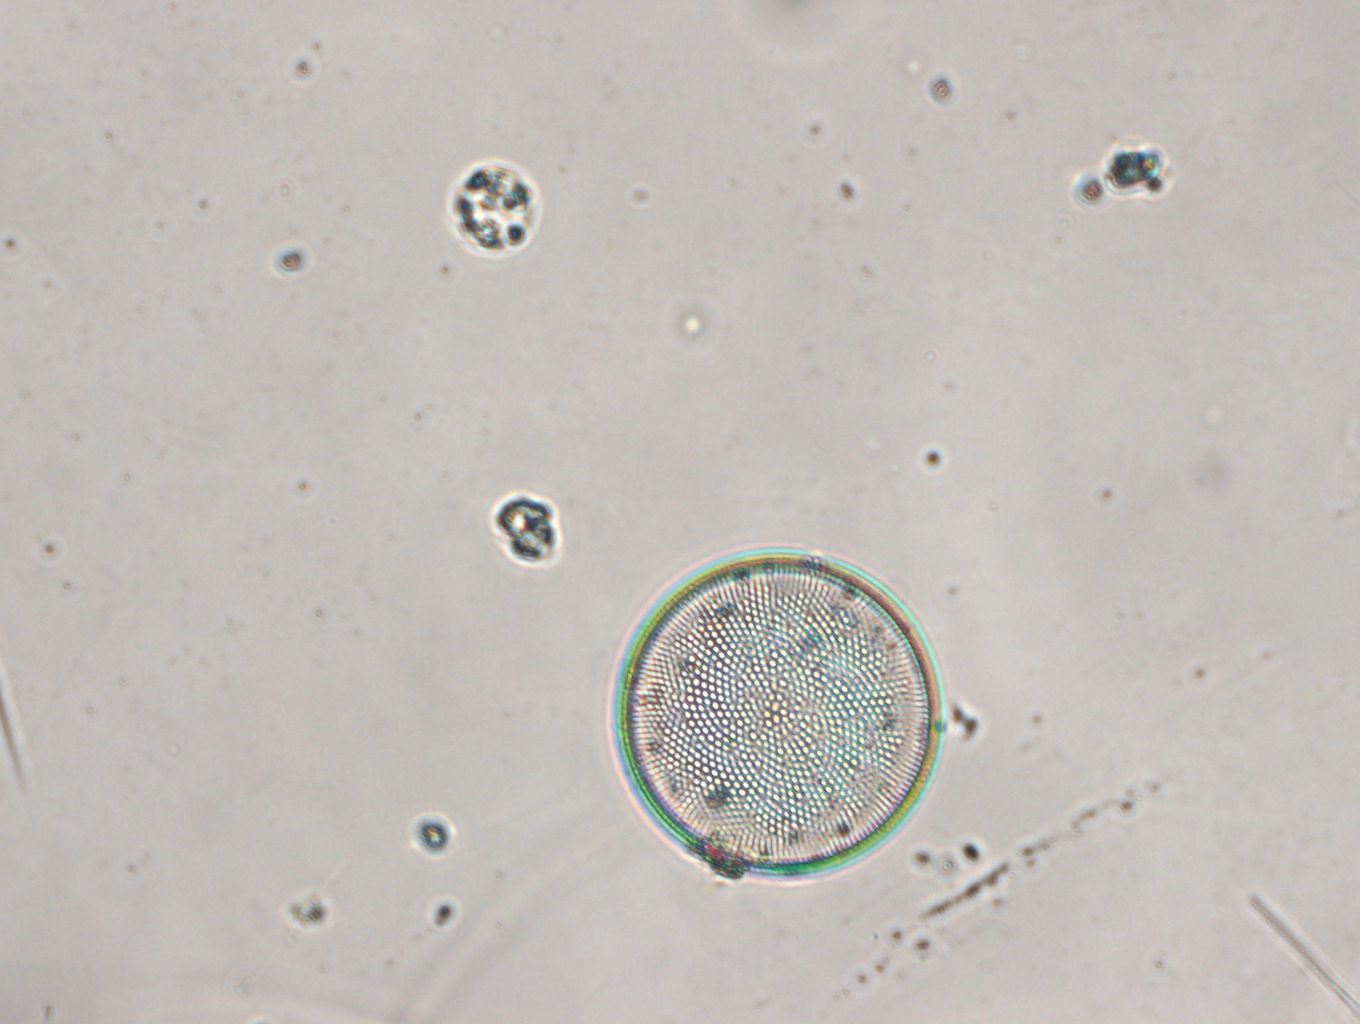coscinodiscus: (610, 545, 943, 880)
